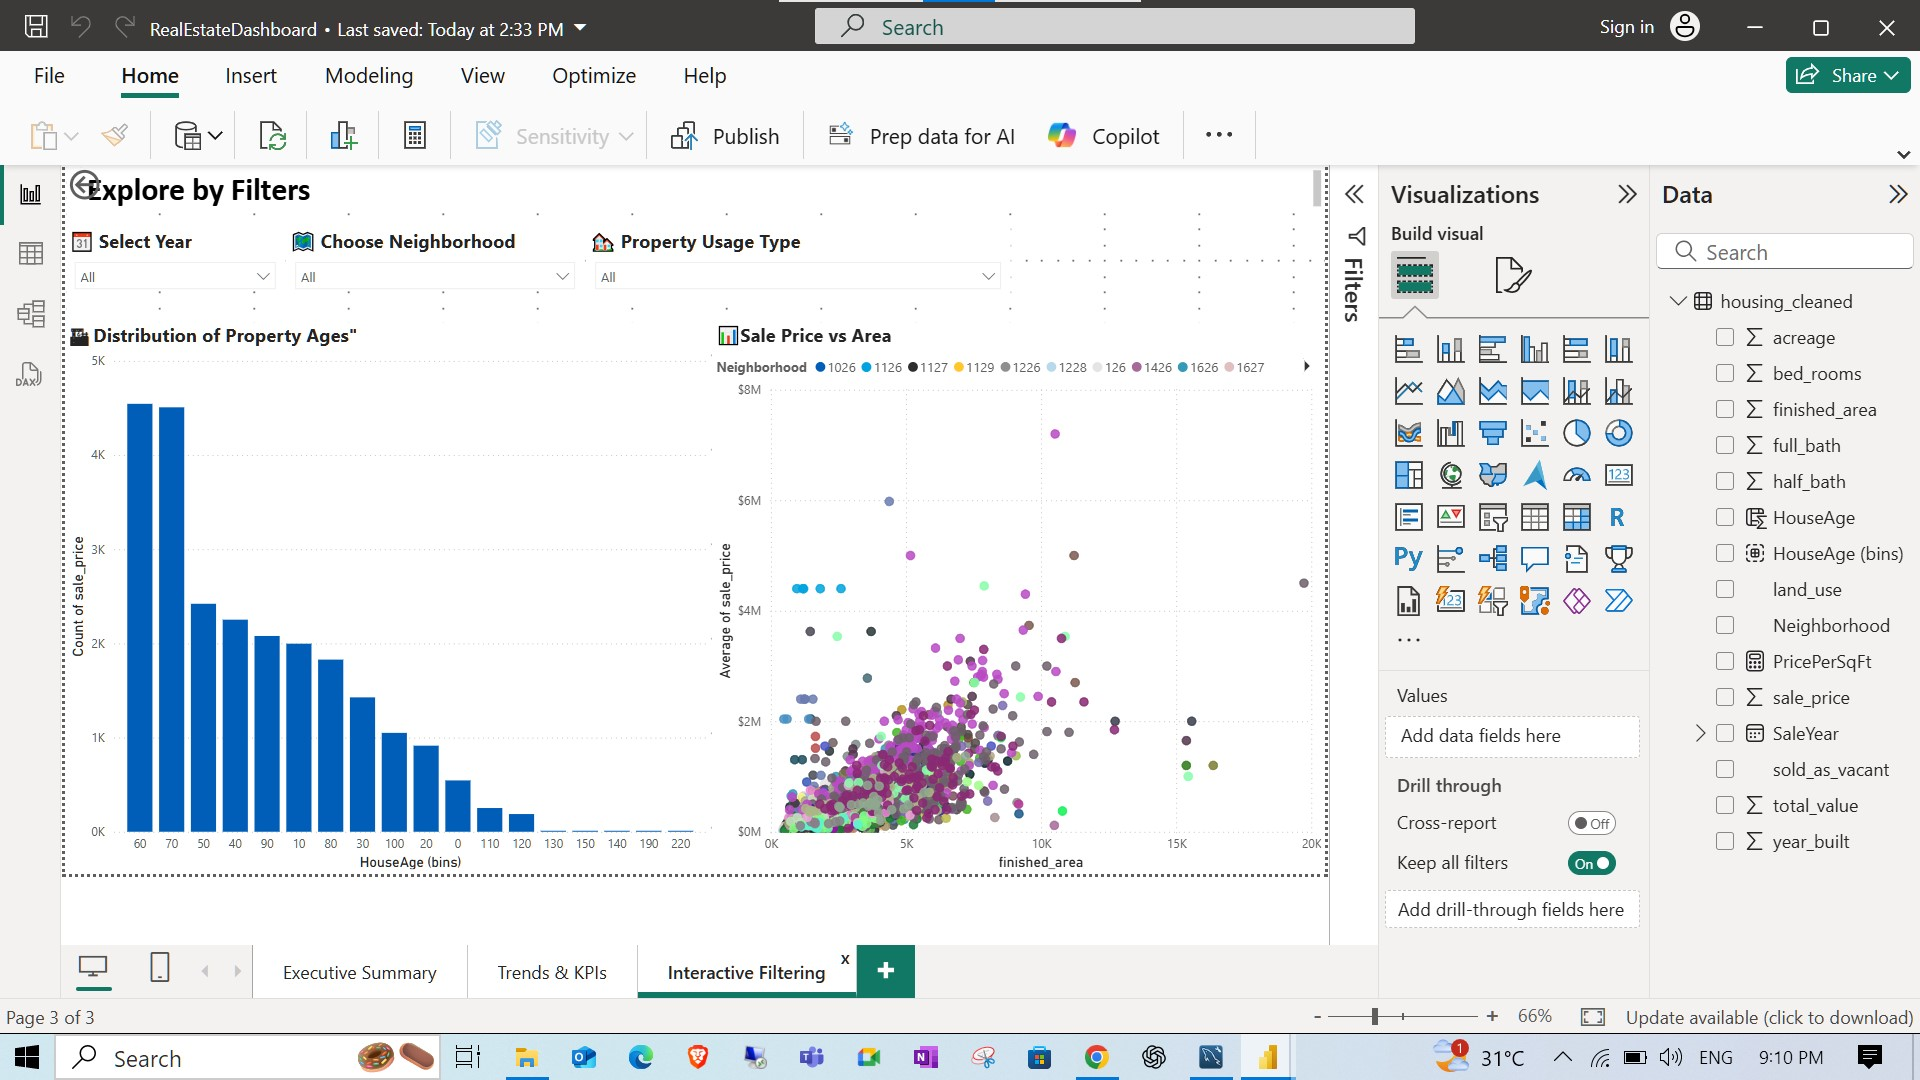

What the dashboard file says about the page in this screenshot:
{"tool":"powerbi","page":{"name":"Interactive Filtering","canvas":[1280,720],"ordinal":2},"visuals":[{"type":"textbox","box":[16,0,1264,48],"z":0},{"type":"slicer","title":"📆\tSelect Year","fields":{"Values":["housing_cleaned.SaleYear"]},"box":[0,64,224,64],"z":1000},{"type":"slicer","title":"🗺️\tChoose Neighborhood","fields":{"Values":["housing_cleaned.Neighborhood"]},"box":[224,64,304,64],"z":2000},{"type":"slicer","title":"🏘️\tProperty Usage Type","fields":{"Values":["housing_cleaned.land_use"]},"box":[528,64,432,80],"z":3000},{"type":"clusteredColumnChart","title":"🏗 Distribution of Property Ages\"","fields":{"Category":["housing_cleaned.HouseAge (bins)"],"Y":["CountNonNull(housing_cleaned.sale_price)"]},"box":[0,160,656,560],"z":4000},{"type":"scatterChart","title":"\t📊Sale Price vs Area","fields":{"X":["housing_cleaned.finished_area"],"Y":["Avg(housing_cleaned.sale_price)"],"Series":["housing_cleaned.Neighborhood"]},"box":[656,160,624,560],"z":5000},{"type":"actionButton","box":[0,0,100,40],"z":5001}]}

Visuals, with their boxes on the page's 1280x720 design canvas (x1, y1, x2, y2). These are canvas units, not pixel positions in the 1920x1080 screenshot, which may show the page scaled, cropped or inside an application window:
textbox: BBox(16, 0, 1280, 48)
"📆	Select Year" slicer: BBox(0, 64, 224, 128)
"🗺️	Choose Neighborhood" slicer: BBox(224, 64, 528, 128)
"🏘️	Property Usage Type" slicer: BBox(528, 64, 960, 144)
"🏗 Distribution of Property Ages"" clusteredColumnChart: BBox(0, 160, 656, 720)
"	📊Sale Price vs Area" scatterChart: BBox(656, 160, 1280, 720)
actionButton: BBox(0, 0, 100, 40)
